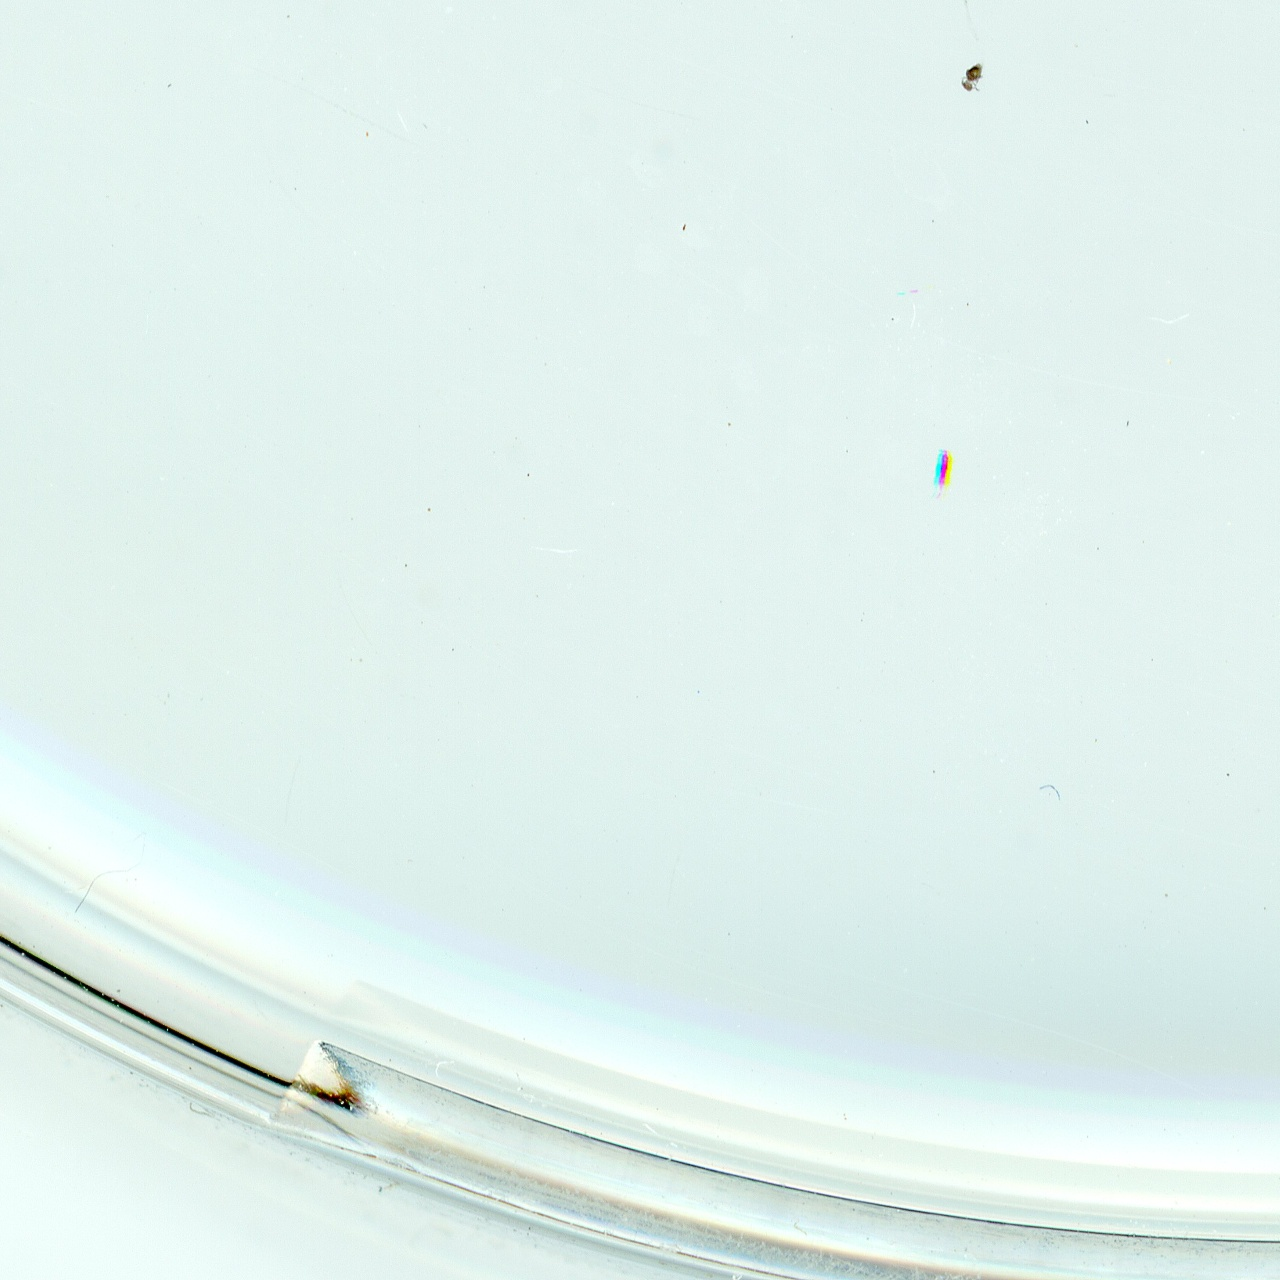arthropod: (924, 441, 962, 508), (960, 57, 987, 95)
